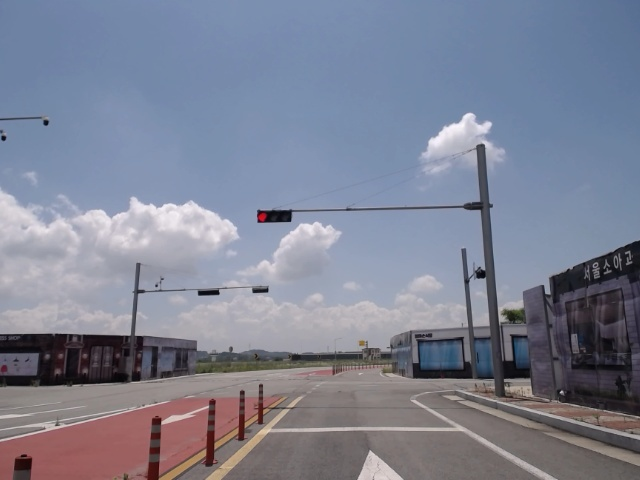red_3: (256, 208, 293, 222)
